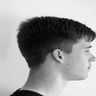ear: (48, 44, 70, 69)
